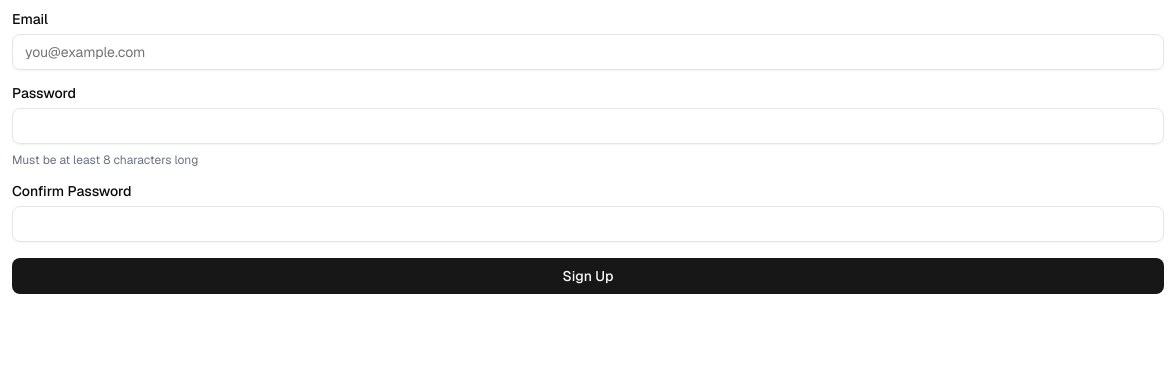
it: SignUpForm › clears previous error on new submission
The width and height of the screenshot is (1176, 365).
// First submission - fails
Step 1. Type "test@example.com" into the field labelled "Email" → (588, 52), box [12,34,1164,70]
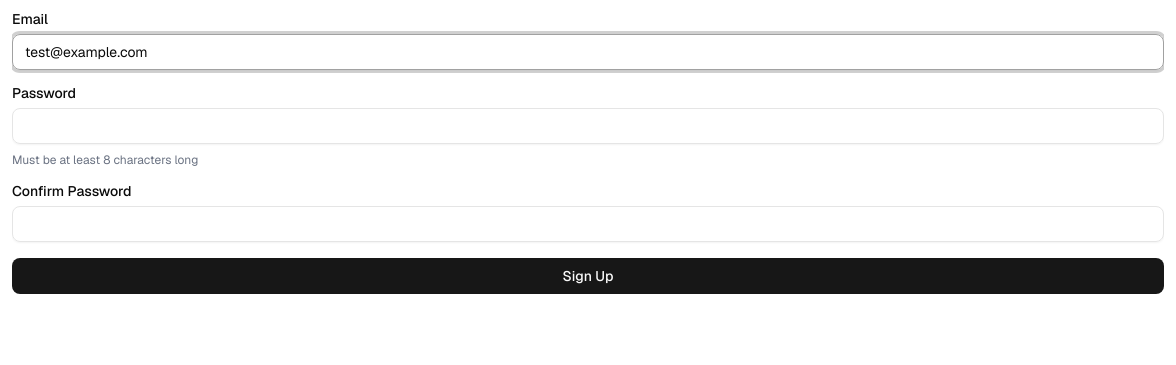
Step 2. Type "password123" into the password field labelled "Password" → (588, 126), box [12,108,1164,144]
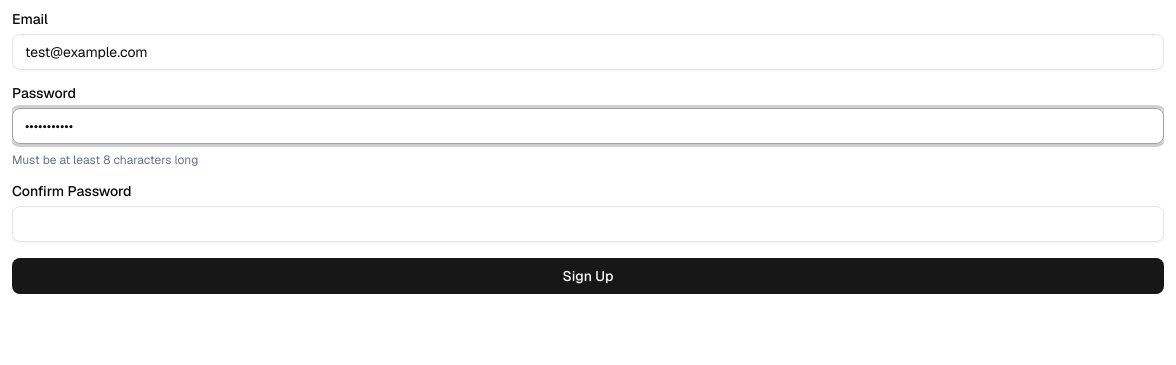
Step 3. Type "password123" into the password field labelled "Confirm Password" → (588, 224), box [12,206,1164,242]
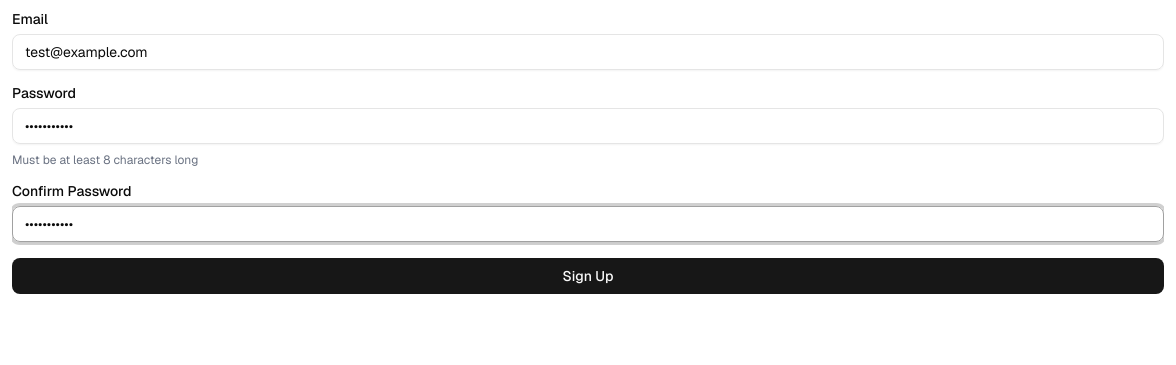
Step 4. Submit the form from the button "Sign Up", box [12,258,1164,294]
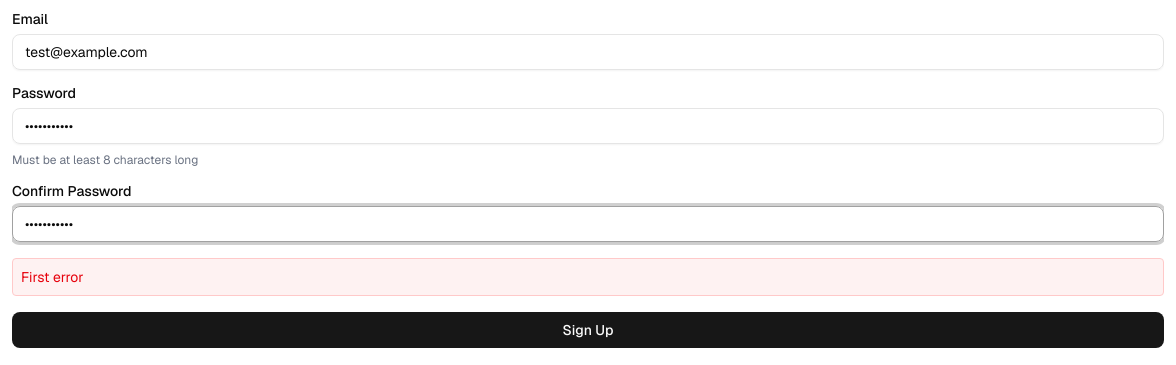
Check: the text "First error" is shown, box [12,258,1164,296]
// Second submission - succeeds
Step 5. Submit the form from the button "Sign Up", box [12,312,1164,348]
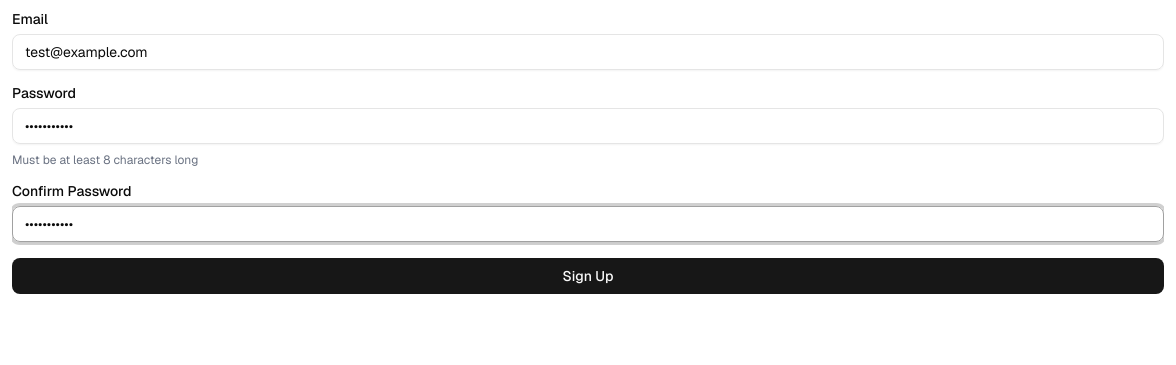
Check: the text "First error" is gone
